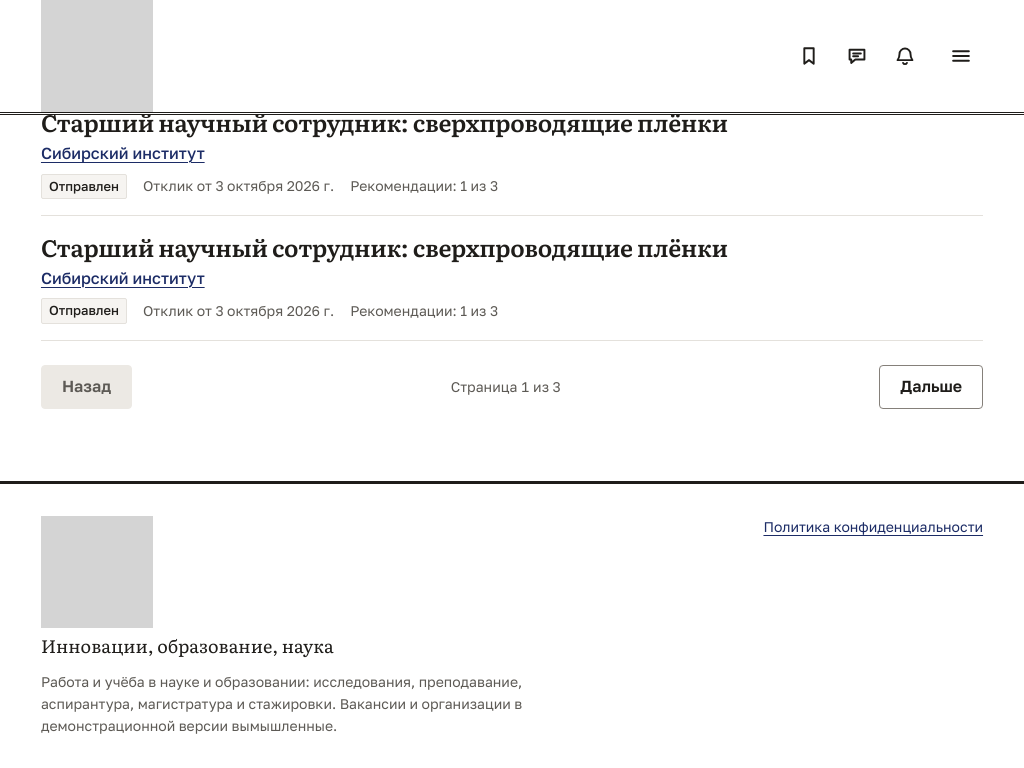
Scenario: my applications › pages through long lists and keeps the page in the address
The image size is (1024, 768).
(page scrolled)
Expected: the text "Страница 1 из 3" is shown, [451, 376, 561, 397]
Expected: the button "Назад" is disabled, [41, 364, 132, 408]
Click the button "Дальше".
click(931, 386)  # box [879, 364, 983, 408]
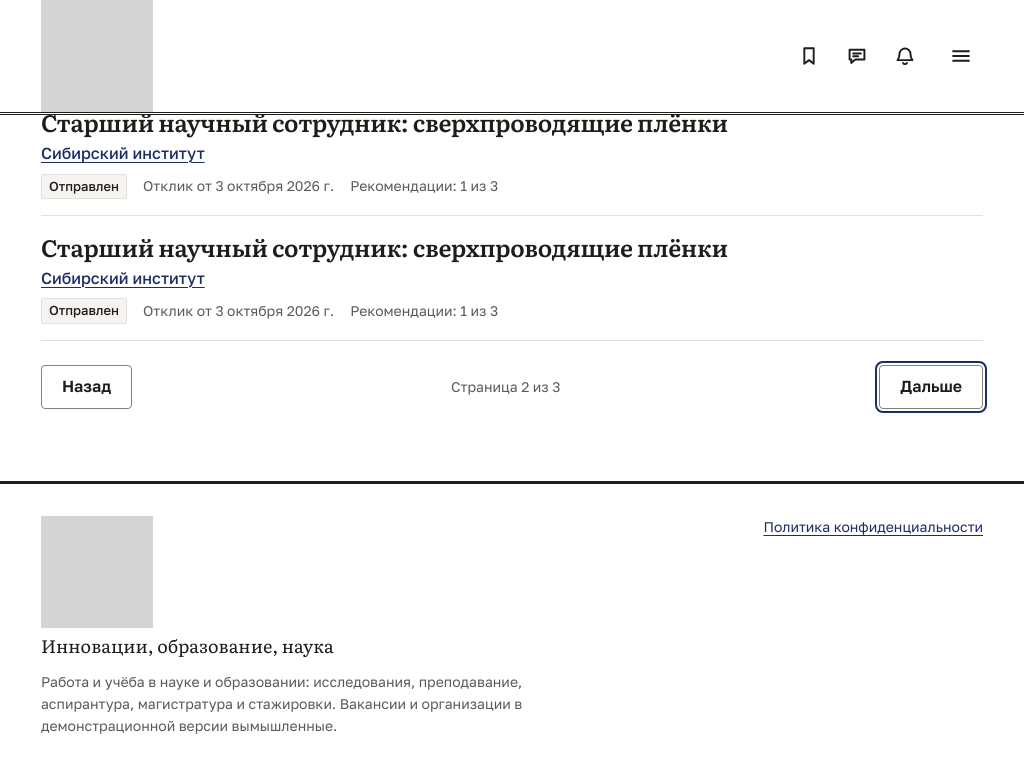
Now the text "Страница 2 из 3" is shown, box [451, 376, 560, 397]
Click the button "Назад".
click(87, 386)  # box [41, 364, 132, 408]
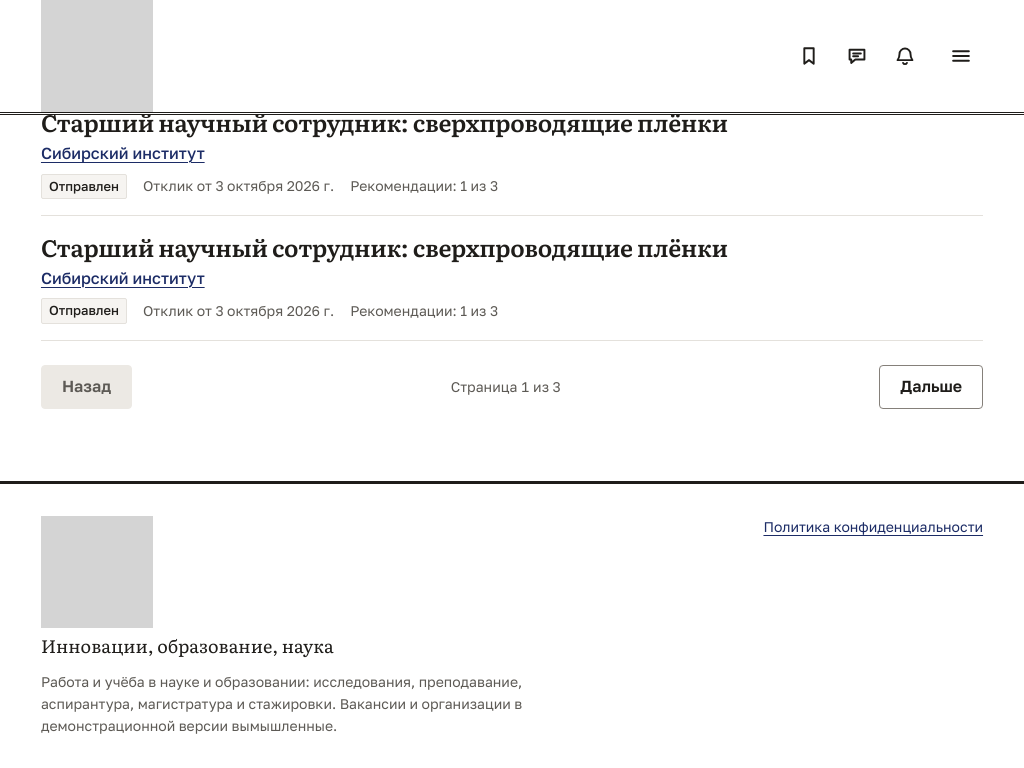
Now the text "Страница 1 из 3" is shown, box [451, 376, 561, 397]
